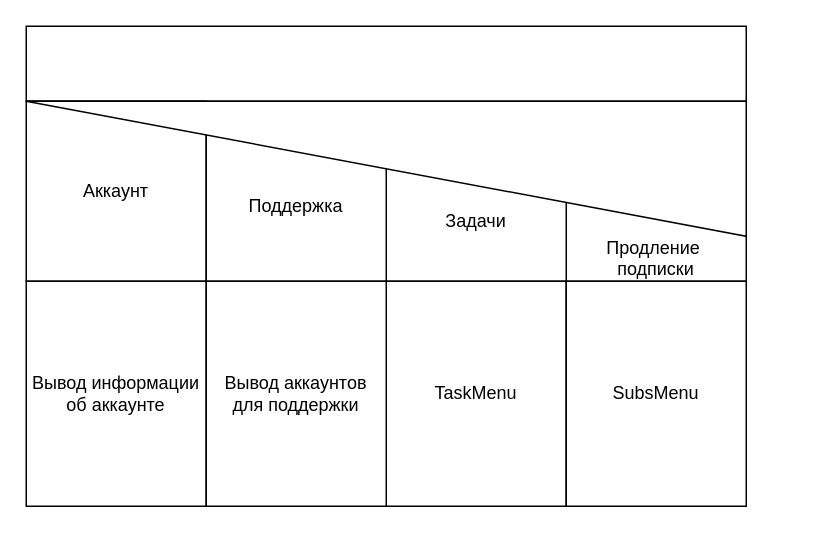
Image size: 833x533. Some labels were removed from this diagram. The box of each missing label's shape, as (x1, y1, x2, y2) in pixels:
Выбор в главном меню: (25, 100, 746, 236)
Выбор пользователя в главном меню: (25, 25, 746, 101)
